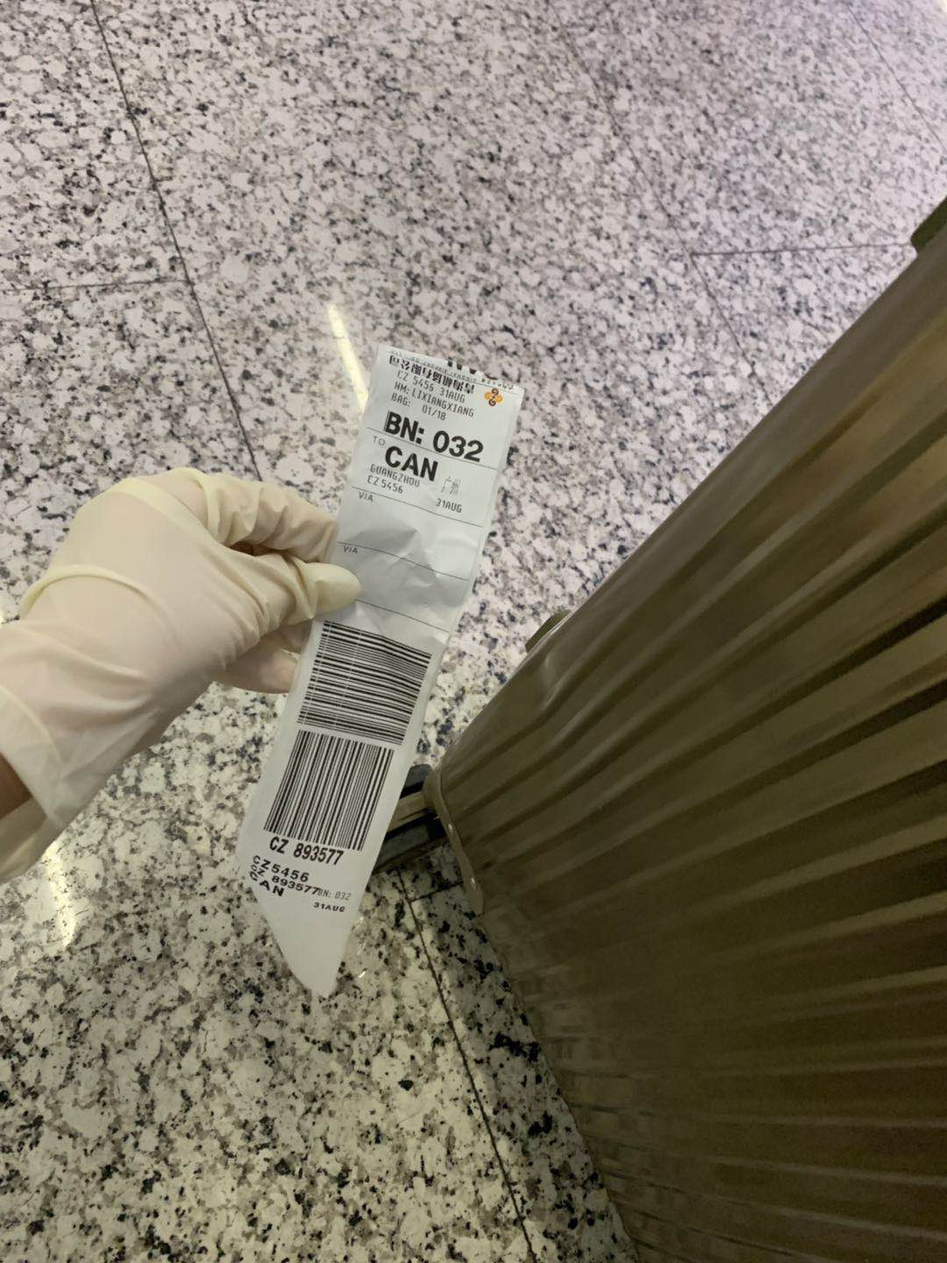rupture: (504, 639, 565, 746)
